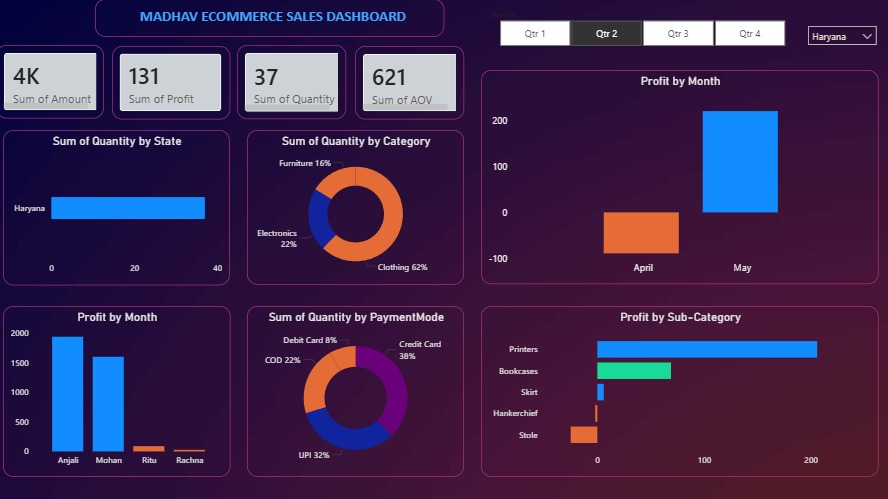

What the dashboard file says about the page in this screenshot:
{"tool":"powerbi","page":{"name":"Page 1","canvas":[1280,720],"ordinal":0},"visuals":[{"type":"textbox","box":[141.1,0,498.9,53.8],"z":0},{"type":"columnChart","title":"Profit by Month","fields":{"Y":["Sum(Details.Profit)"],"Category":["Orders.Order Date.Variation.Date Hierarchy.Month"]},"box":[693.1,102,568.3,306.1],"z":1000},{"type":"barChart","title":"Profit by Sub-Category","fields":{"Category":["Details.Sub-Category"],"Y":["Sum(Details.Profit)"]},"box":[693.1,438,568.3,243.8],"z":2000},{"type":"donutChart","fields":{"Y":["Sum(Details.Quantity)"],"Category":["Details.Category"]},"box":[358.6,187.1,310.4,221.1],"z":3000},{"type":"donutChart","fields":{"Y":["Sum(Details.Quantity)"],"Category":["Details.PaymentMode"]},"box":[358.6,438,310.4,243.8],"z":4000},{"type":"barChart","fields":{"Category":["Orders.State"],"Y":["Sum(Details.Quantity)"]},"box":[10.1,186.5,324.2,221.7],"z":5000},{"type":"cardVisual","fields":{"Data":["Sum(Details.Amount)"]},"box":[0,65.2,154.5,104.9],"z":6000},{"type":"columnChart","title":"Profit by Month","fields":{"Category":["Orders.CustomerName"],"Y":["Sum(Details.Amount)"]},"box":[9.9,438,324.6,243.8],"z":7000},{"type":"cardVisual","fields":{"Data":["Sum(Details.Profit)"]},"box":[165.8,66.6,168.7,104.9],"z":8000},{"type":"cardVisual","fields":{"Data":["Sum(Details.Quantity)"]},"box":[344.4,65.2,155.9,106.3],"z":9000},{"type":"cardVisual","fields":{"Data":["Sum(Details.AOV)"]},"box":[513.1,66.6,155.9,104.9],"z":10000},{"type":"slicer","fields":{"Values":["Orders.Order Date.Variation.Date Hierarchy.Quarter"]},"box":[693.8,10.1,456.9,63.8],"z":11000},{"type":"slicer","fields":{"Values":["Orders.State"]},"box":[1149.4,28.3,117.6,45.4],"z":12000}]}

Visuals, with their boxes in screenshot pixels (x1, y1, x2, y2), scaled from the page's 1280x720 canvas onto the 888x499 screenshot:
textbox: {"left": 98, "top": 0, "right": 444, "bottom": 37}
"Profit by Month" columnChart: {"left": 481, "top": 71, "right": 875, "bottom": 283}
"Profit by Sub-Category" barChart: {"left": 481, "top": 304, "right": 875, "bottom": 473}
donutChart - Sum(Details.Quantity) x Details.Category: {"left": 249, "top": 130, "right": 464, "bottom": 283}
donutChart - Sum(Details.Quantity) x Details.PaymentMode: {"left": 249, "top": 304, "right": 464, "bottom": 473}
barChart - Orders.State x Sum(Details.Quantity): {"left": 7, "top": 129, "right": 232, "bottom": 283}
cardVisual - Sum(Details.Amount): {"left": 0, "top": 45, "right": 107, "bottom": 118}
"Profit by Month" columnChart: {"left": 7, "top": 304, "right": 232, "bottom": 473}
cardVisual - Sum(Details.Profit): {"left": 115, "top": 46, "right": 232, "bottom": 119}
cardVisual - Sum(Details.Quantity): {"left": 239, "top": 45, "right": 347, "bottom": 119}
cardVisual - Sum(Details.AOV): {"left": 356, "top": 46, "right": 464, "bottom": 119}
slicer - Orders.Order Date.Variation.Date Hierarchy.Quarter: {"left": 481, "top": 7, "right": 798, "bottom": 51}
slicer - Orders.State: {"left": 797, "top": 20, "right": 879, "bottom": 51}
